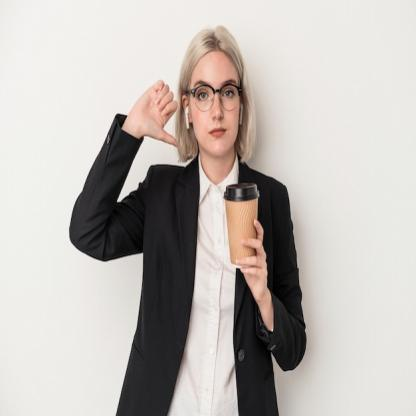thumb_down: (130, 76, 181, 152)
